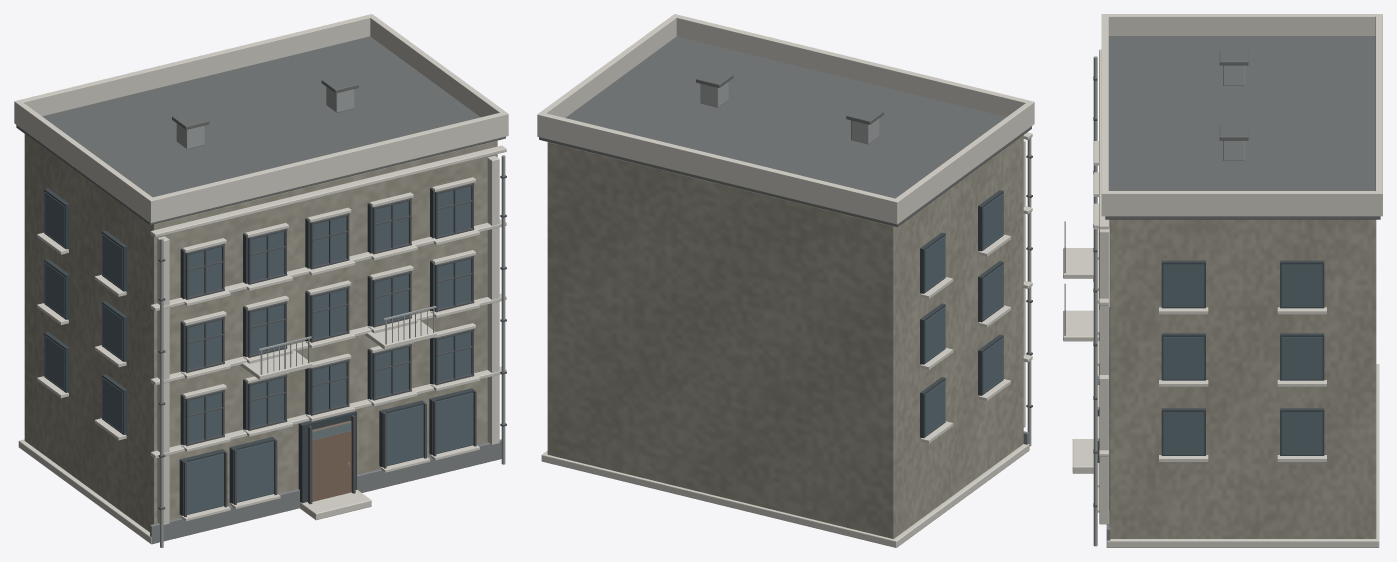
Rendered from r6_kamienica_miejska.glb.
The picture shows the model from 3 angles, left to right: view 1: azimuth 30°, elevation 25°; view 2: azimuth 150°, elevation 25°; view 3: azimuth 270°, elevation 25°; orthographic projection. The views are drawn at different scales.
Parts seen in each view (by area): view 1: R6_geometry_Tynk mineralny, R6_geometry_Kamienny jasny gzyms, R6_geometry_Wnetrze i wglebienia, R6_geometry_Papa dachowa, R6_geometry_Szklo ciemne fizycznie przyblizone, R6_geometry_Aluminiowe ramy antracyt, R6_geometry_Cokol beton ciemnoszary, R6_geometry_Balustrada stal ocynk, R6_geometry_Drewno drzwi; view 2: R6_geometry_Tynk mineralny, R6_geometry_Papa dachowa, R6_geometry_Kamienny jasny gzyms, R6_geometry_Wnetrze i wglebienia, R6_geometry_Szklo ciemne fizycznie przyblizone, R6_geometry_Balustrada stal ocynk; view 3: R6_geometry_Tynk mineralny, R6_geometry_Papa dachowa, R6_geometry_Kamienny jasny gzyms, R6_geometry_Wnetrze i wglebienia, R6_geometry_Szklo ciemne fizycznie przyblizone, R6_geometry_Balustrada stal ocynk.
Boxes of the visible parts, left/top/right/bottom form: R6_geometry_Tynk mineralny: left=24, top=134, right=497, bottom=532; R6_geometry_Kamienny jasny gzyms: left=14, top=14, right=508, bottom=543; R6_geometry_Wnetrze i wglebienia: left=44, top=186, right=474, bottom=515; R6_geometry_Papa dachowa: left=16, top=36, right=505, bottom=225; R6_geometry_Szklo ciemne fizycznie przyblizone: left=44, top=186, right=473, bottom=514; R6_geometry_Aluminiowe ramy antracyt: left=158, top=175, right=506, bottom=517; R6_geometry_Cokol beton ciemnoszary: left=150, top=439, right=501, bottom=544; R6_geometry_Balustrada stal ocynk: left=160, top=87, right=505, bottom=547; R6_geometry_Drewno drzwi: left=312, top=421, right=351, bottom=501; R6_geometry_Tynk mineralny: left=547, top=135, right=1023, bottom=538; R6_geometry_Papa dachowa: left=539, top=36, right=1031, bottom=226; R6_geometry_Kamienny jasny gzyms: left=537, top=14, right=1034, bottom=547; R6_geometry_Wnetrze i wglebienia: left=920, top=190, right=1003, bottom=438; R6_geometry_Szklo ciemne fizycznie przyblizone: left=924, top=193, right=1003, bottom=435; R6_geometry_Balustrada stal ocynk: left=700, top=82, right=1031, bottom=446; R6_geometry_Tynk mineralny: left=1109, top=219, right=1376, bottom=538; R6_geometry_Papa dachowa: left=1105, top=36, right=1380, bottom=219; R6_geometry_Kamienny jasny gzyms: left=1063, top=14, right=1382, bottom=547; R6_geometry_Wnetrze i wglebienia: left=1109, top=220, right=1324, bottom=510; R6_geometry_Szklo ciemne fizycznie przyblizone: left=1097, top=264, right=1322, bottom=454; R6_geometry_Balustrada stal ocynk: left=1064, top=56, right=1245, bottom=546.
Size of the model in its own units: 14.7 by 13.64 by 10.79.
Materials: 9 (1 with a texture image).
